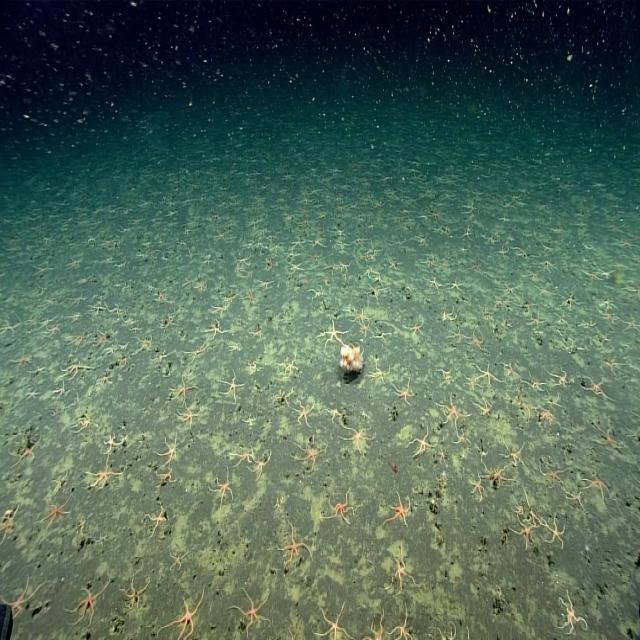brittle-stars: (161, 595, 203, 640), (5, 572, 44, 616), (68, 581, 107, 625), (232, 591, 270, 631), (556, 590, 589, 636), (384, 546, 416, 592), (314, 603, 348, 640), (38, 491, 72, 527), (280, 525, 310, 562), (10, 430, 42, 464), (121, 574, 149, 610), (328, 488, 356, 524), (584, 467, 611, 503), (387, 488, 411, 528), (86, 461, 120, 489), (209, 468, 234, 505), (540, 456, 568, 489), (592, 419, 620, 450), (511, 517, 536, 549), (439, 398, 466, 427), (545, 513, 568, 546), (408, 428, 434, 457), (500, 438, 525, 468), (0, 502, 20, 539), (145, 502, 167, 534), (473, 361, 498, 389), (389, 610, 412, 640), (298, 438, 320, 469), (321, 319, 346, 346), (346, 424, 372, 449), (484, 462, 511, 486), (175, 406, 200, 430), (220, 371, 240, 401), (158, 435, 180, 462), (294, 397, 314, 426), (61, 360, 93, 378), (230, 442, 253, 467), (250, 451, 272, 477), (171, 378, 193, 403), (394, 377, 416, 402), (202, 320, 226, 342), (103, 429, 125, 452), (582, 376, 606, 396), (169, 548, 187, 573), (469, 473, 486, 499), (186, 342, 208, 362), (0, 316, 20, 338), (474, 396, 494, 418), (278, 354, 298, 376), (74, 410, 93, 433), (406, 315, 425, 338), (369, 362, 390, 382), (552, 369, 572, 388), (447, 326, 468, 344), (66, 291, 88, 308), (155, 468, 178, 484), (11, 350, 31, 367), (467, 329, 484, 349), (447, 276, 464, 294), (527, 312, 545, 329), (426, 274, 442, 293), (68, 333, 85, 350), (25, 383, 40, 402), (351, 304, 366, 322), (358, 317, 372, 336), (43, 323, 60, 338), (422, 252, 436, 270), (208, 303, 228, 315), (95, 329, 109, 346), (109, 301, 122, 319), (242, 290, 257, 305), (97, 373, 113, 387), (460, 225, 474, 241), (324, 260, 338, 276), (386, 254, 398, 272), (214, 228, 228, 243), (30, 364, 46, 377), (291, 237, 305, 251), (309, 248, 321, 262), (195, 279, 207, 291), (125, 314, 134, 326)
